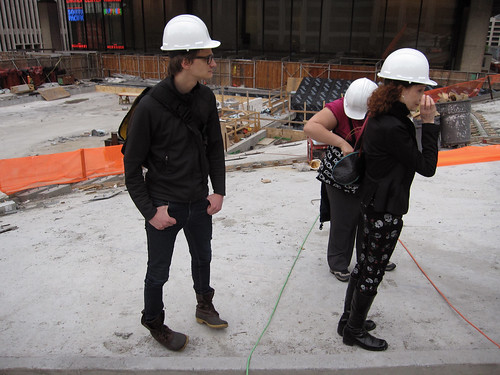person hardhat: (118, 13, 232, 351), (340, 49, 437, 362), (303, 75, 397, 286)
